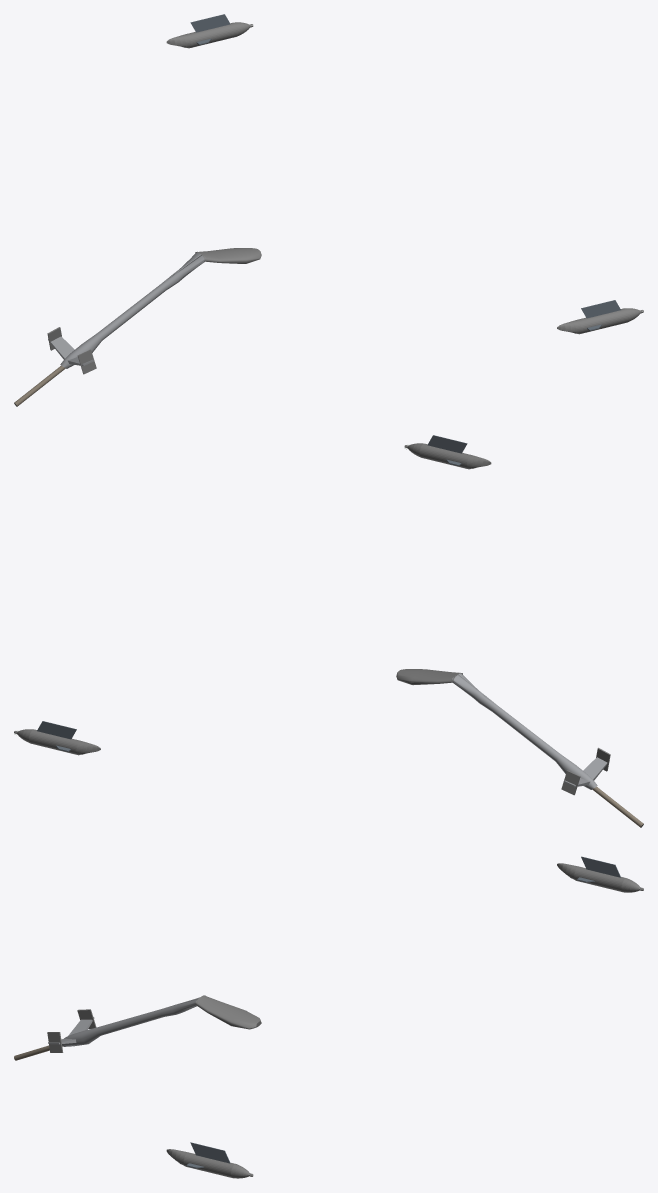
3 renders of one model, top to bottom at view 1: azimuth 30°, elevation 25°; view 2: azimuth 150°, elevation 25°; view 3: azimuth 330°, elevation 25°, orthographic.
Parts seen in each view (by area): view 1: 立方体.001, 立方体.005, 立方体.003, boom.002; view 2: 立方体.001, 立方体.003, 立方体.005, boom.002; view 3: 立方体.001, 立方体.005, 立方体.003, boom.002.
Part boxes in pixels (<box>): 立方体.001: <box>47,251,205,374</box>; 立方体.005: <box>166,14,253,48</box>; 立方体.003: <box>557,300,643,334</box>; boom.002: <box>195,248,261,263</box>; 立方体.001: <box>451,672,610,795</box>; 立方体.003: <box>404,435,491,469</box>; 立方体.005: <box>14,721,100,755</box>; boom.002: <box>396,669,462,685</box>; 立方体.001: <box>47,995,205,1052</box>; 立方体.005: <box>557,856,643,892</box>; 立方体.003: <box>166,1142,253,1178</box>; boom.002: <box>195,995,261,1029</box>.
Bounding box in the file's own units: 26.59 × 8.84 × 42.81.
